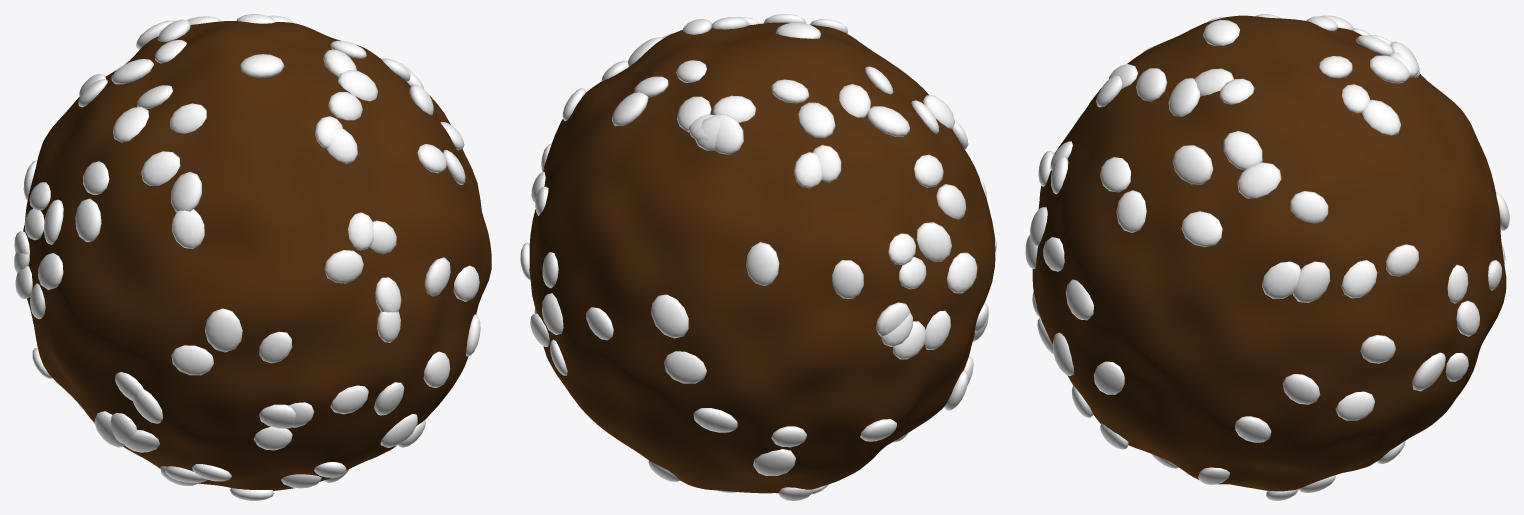
File: lolly-6.glb
3 renders of one model, left to right at view 1: azimuth 30°, elevation 25°; view 2: azimuth 150°, elevation 25°; view 3: azimuth 270°, elevation 25°, orthographic.
Visible parts, largest first — view 1: Sphere.001; view 2: Sphere.001; view 3: Sphere.001.
Part boxes in pixels (x1,y1,x2,y2): Sphere.001: [14, 14, 491, 500]; Sphere.001: [520, 14, 996, 500]; Sphere.001: [1025, 14, 1509, 500].
Bounding box in the file's own units: 0.7251 × 0.7273 × 0.7252.
